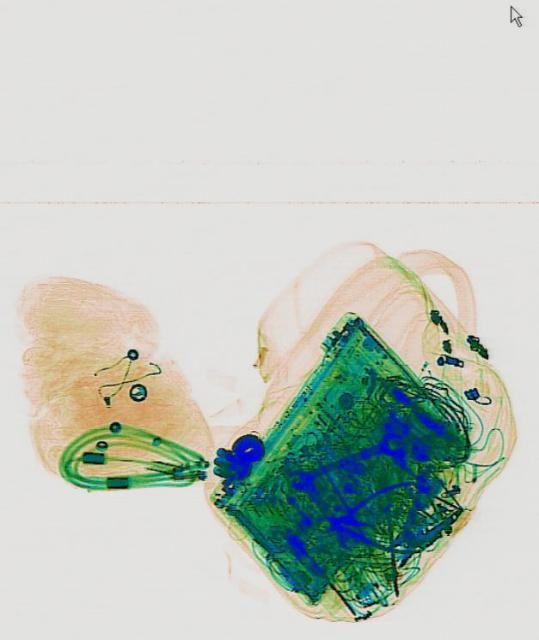Pliers: (322, 479, 421, 555)
Wrench: (290, 426, 403, 489), (287, 464, 358, 556)
